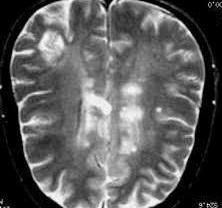Normal_Brain: (1, 1, 219, 208)
